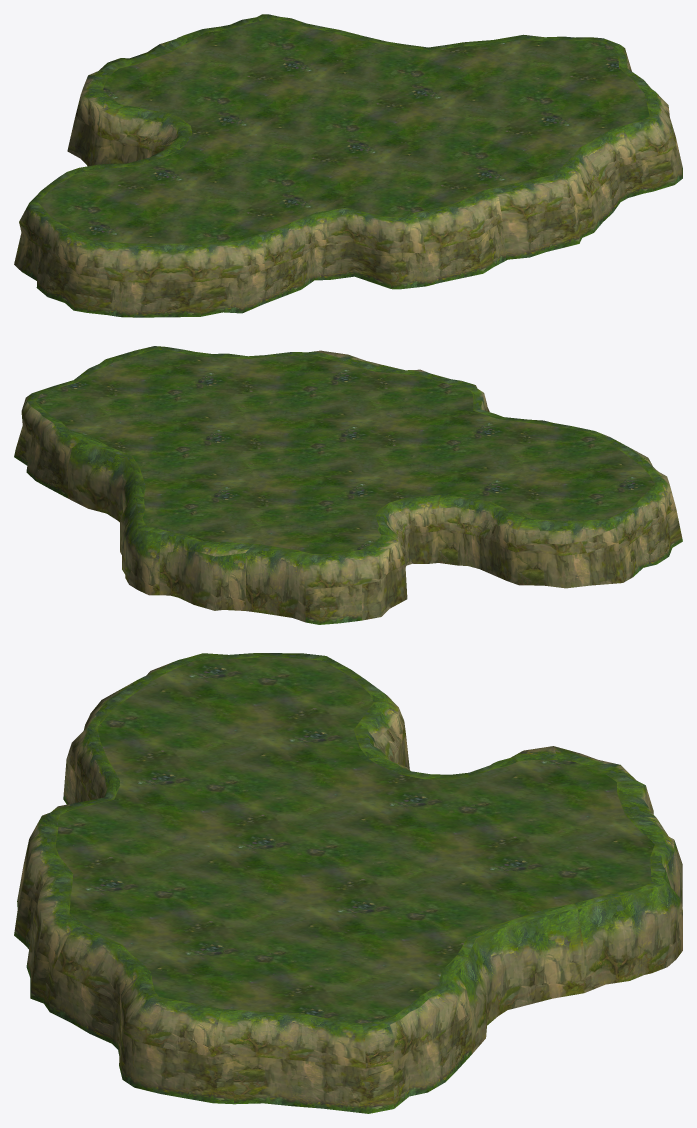
Rendered from block_hill.FBX.
3 renders of one model, top to bottom at view 1: azimuth 30°, elevation 25°; view 2: azimuth 150°, elevation 25°; view 3: azimuth 270°, elevation 25°, orthographic. The views are drawn at different scales.
Parts seen in each view (by area): view 1: forest_s3_boss_huangmanbuluo_02, forest_s3_boss_huangmanbuluo_01; view 2: forest_s3_boss_huangmanbuluo_02, forest_s3_boss_huangmanbuluo_01; view 3: forest_s3_boss_huangmanbuluo_02, forest_s3_boss_huangmanbuluo_01.
Part boxes in pixels (x1=…): forest_s3_boss_huangmanbuluo_02: x1=38, y1=19, x2=649, y2=243; forest_s3_boss_huangmanbuluo_01: x1=14, y1=14, x2=682, y2=317; forest_s3_boss_huangmanbuluo_02: x1=36, y1=349, x2=654, y2=553; forest_s3_boss_huangmanbuluo_01: x1=14, y1=346, x2=682, y2=624; forest_s3_boss_huangmanbuluo_02: x1=55, y1=656, x2=654, y2=1023; forest_s3_boss_huangmanbuluo_01: x1=14, y1=653, x2=682, y2=1113.
Bounding box in the file's own units: 48.59 × 34.85 × 4.52.
